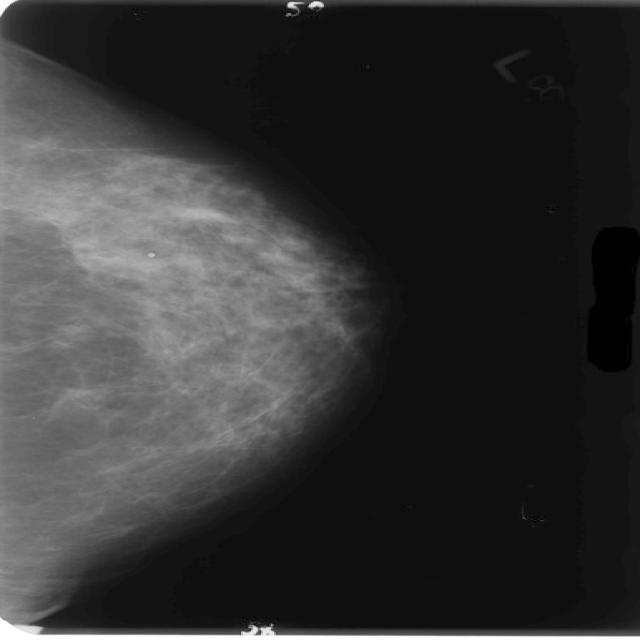tumour: (173, 205, 239, 224)
